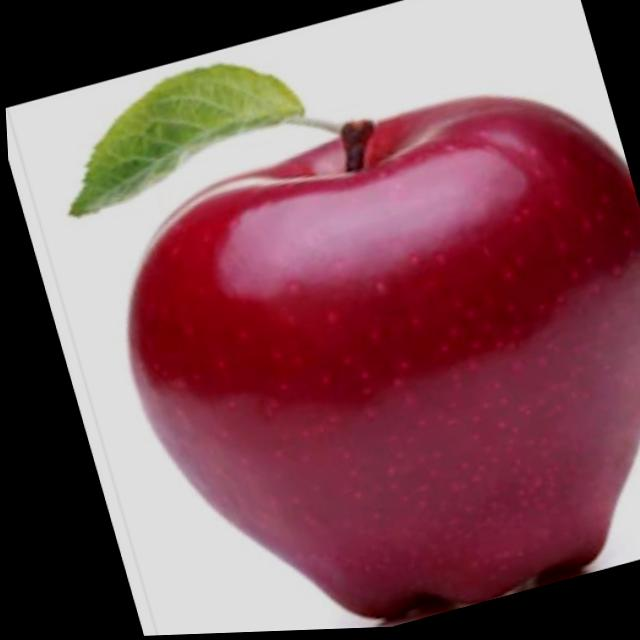Apple: (70, 55, 640, 638)
